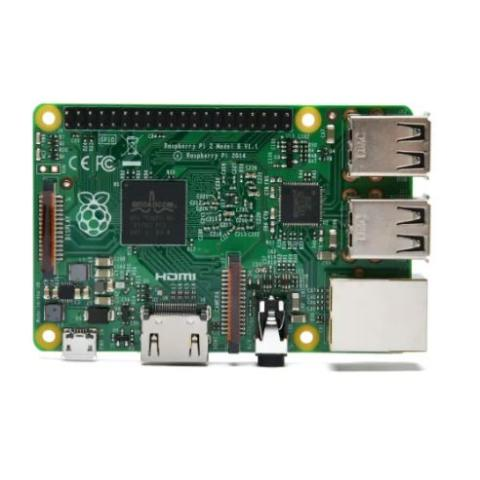Raspberry-Pi-2-Model-B: (27, 94, 437, 376)
